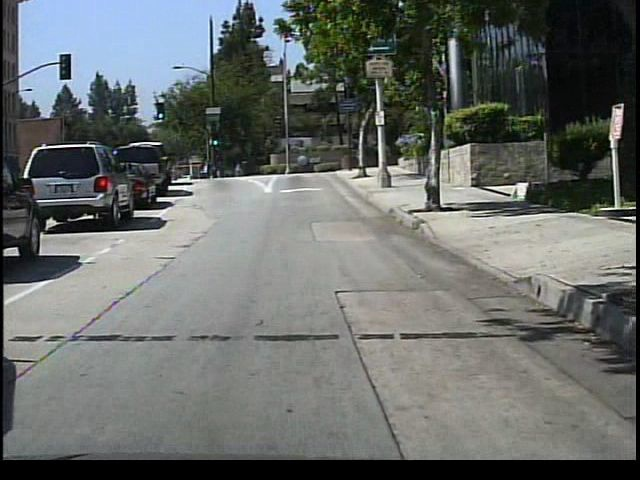person: (205, 156, 219, 180)
